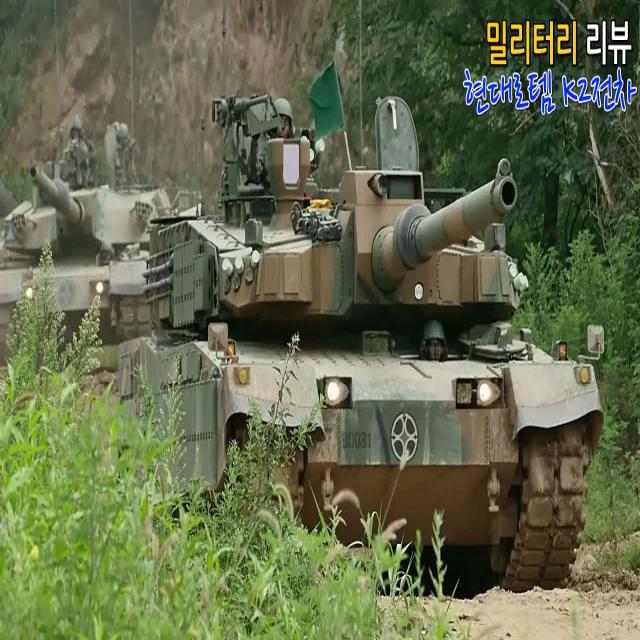korea tank: (120, 95, 606, 601)
